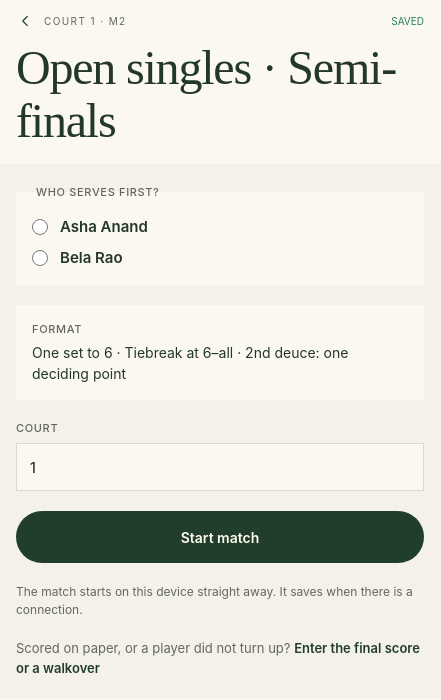
it: Scorer › asks who serves first before starting
This screenshot has width=441, height=700.
What coordinates should you click on to do the following:
click the button "Start match"
I would click on:
 (220, 537)
Its box is [16,511,424,563].
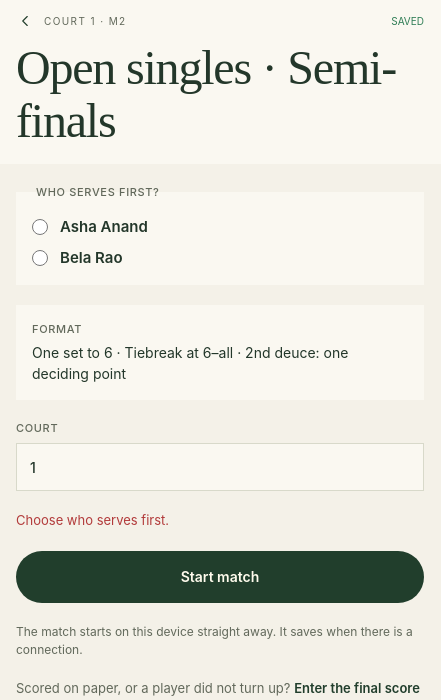
Expected: the message "Choose who serves first." is shown, [16,512,169,528]
